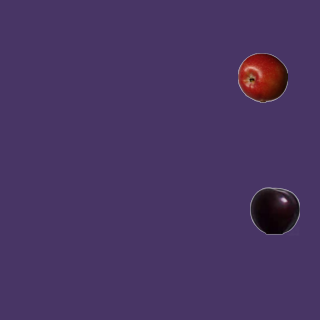Apple Braeburn: (237, 52, 287, 102)
Cherry Wax Black: (249, 185, 299, 235)
